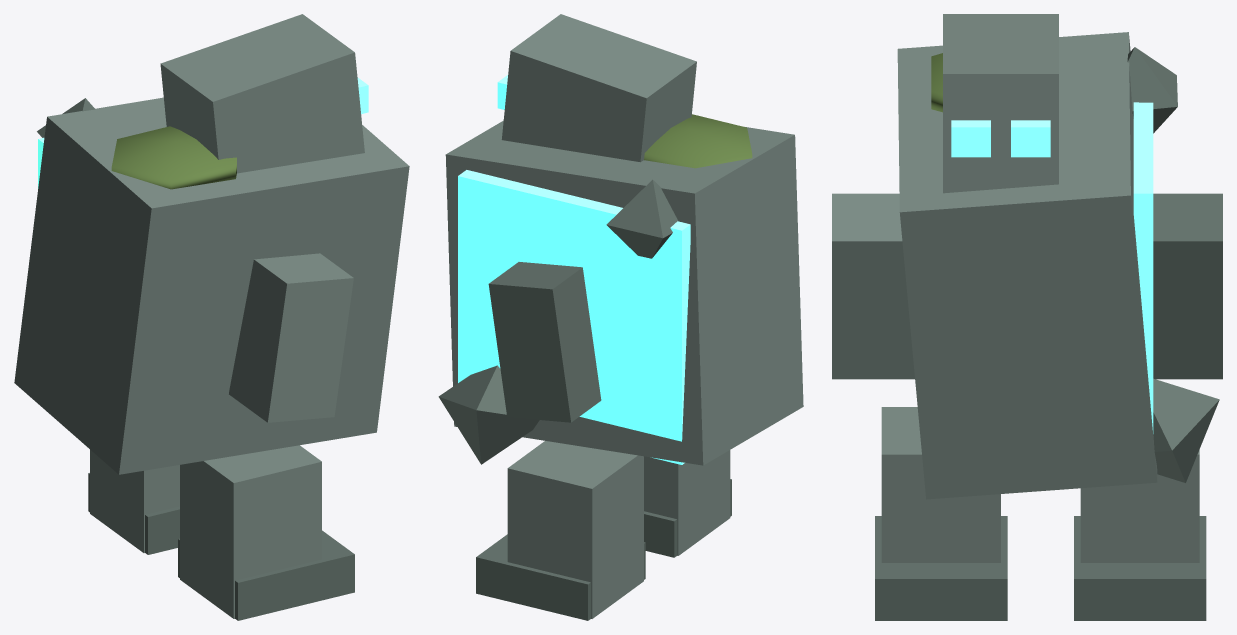
The model's file is enemy_shard.glb.
3 views of the same model, side by side, from view 1: azimuth 30°, elevation 25°; view 2: azimuth 150°, elevation 25°; view 3: azimuth 270°, elevation 25° (orthographic). The views are drawn at different scales.
Parts seen in each view (by area): view 1: body, head, leg_l_mesh, arm_l_mesh, foot_l, moss, leg_r_mesh, foot_r; view 2: body, break_face, head, leg_r_mesh, arm_r_mesh, leg_l_mesh, foot_r, chunk_0, moss, chunk_1, foot_l; view 3: body, head, arm_l_mesh, arm_r_mesh, leg_l_mesh, leg_r_mesh, foot_r, foot_l, break_face, chunk_0, chunk_1, eye_l (+2 smaller).
Boxes of the visible parts, x1,y1,x2,y2 form: body: [14, 97, 409, 474]; head: [160, 14, 364, 173]; leg_l_mesh: [180, 445, 321, 618]; arm_l_mesh: [229, 253, 353, 422]; foot_l: [178, 530, 354, 620]; moss: [111, 126, 236, 189]; leg_r_mesh: [90, 450, 179, 552]; foot_r: [88, 473, 179, 554]; body: [445, 120, 803, 465]; break_face: [458, 170, 690, 464]; head: [501, 14, 696, 162]; leg_r_mesh: [507, 441, 643, 618]; arm_r_mesh: [488, 262, 601, 422]; leg_l_mesh: [644, 450, 730, 555]; foot_r: [476, 534, 645, 620]; chunk_0: [438, 365, 539, 464]; moss: [644, 114, 752, 168]; chunk_1: [606, 179, 677, 258]; foot_l: [644, 479, 731, 557]; body: [897, 32, 1157, 499]; head: [943, 14, 1058, 193]; arm_l_mesh: [832, 193, 914, 379]; arm_r_mesh: [1153, 193, 1222, 379]; leg_l_mesh: [881, 407, 1000, 562]; leg_r_mesh: [1080, 450, 1199, 562]; foot_r: [1074, 516, 1206, 620]; foot_l: [875, 516, 1007, 620]; break_face: [1133, 102, 1153, 433]; chunk_0: [1153, 378, 1219, 482]; chunk_1: [1127, 47, 1177, 133]; eye_l: [951, 120, 990, 157].
Bounding box in the file's own units: 0.1077 × 0.1876 × 0.118.
